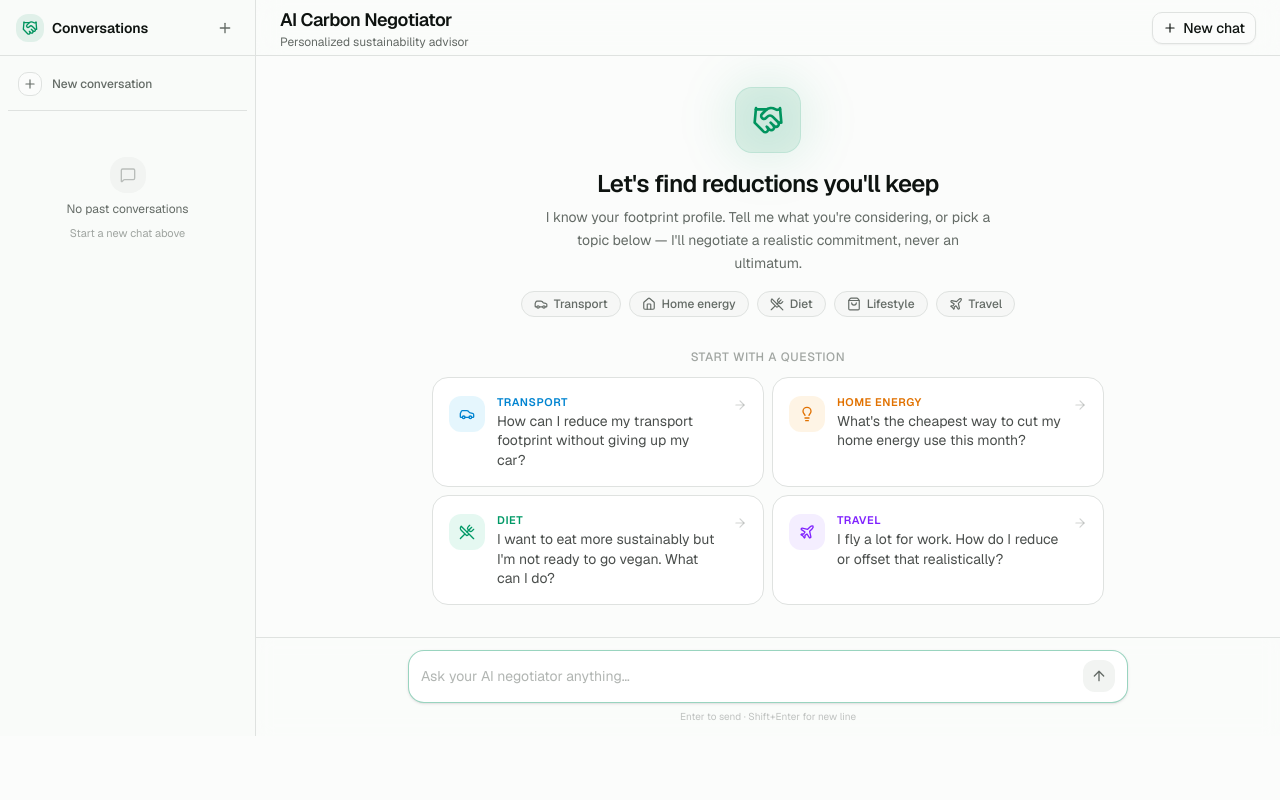
Test: NegotiatorClient › shows error banner when error occurs
This screenshot has width=1280, height=800.
Type "Trigger an error" into the text box named "message input" at [748, 677], box [421,659,1075,694]
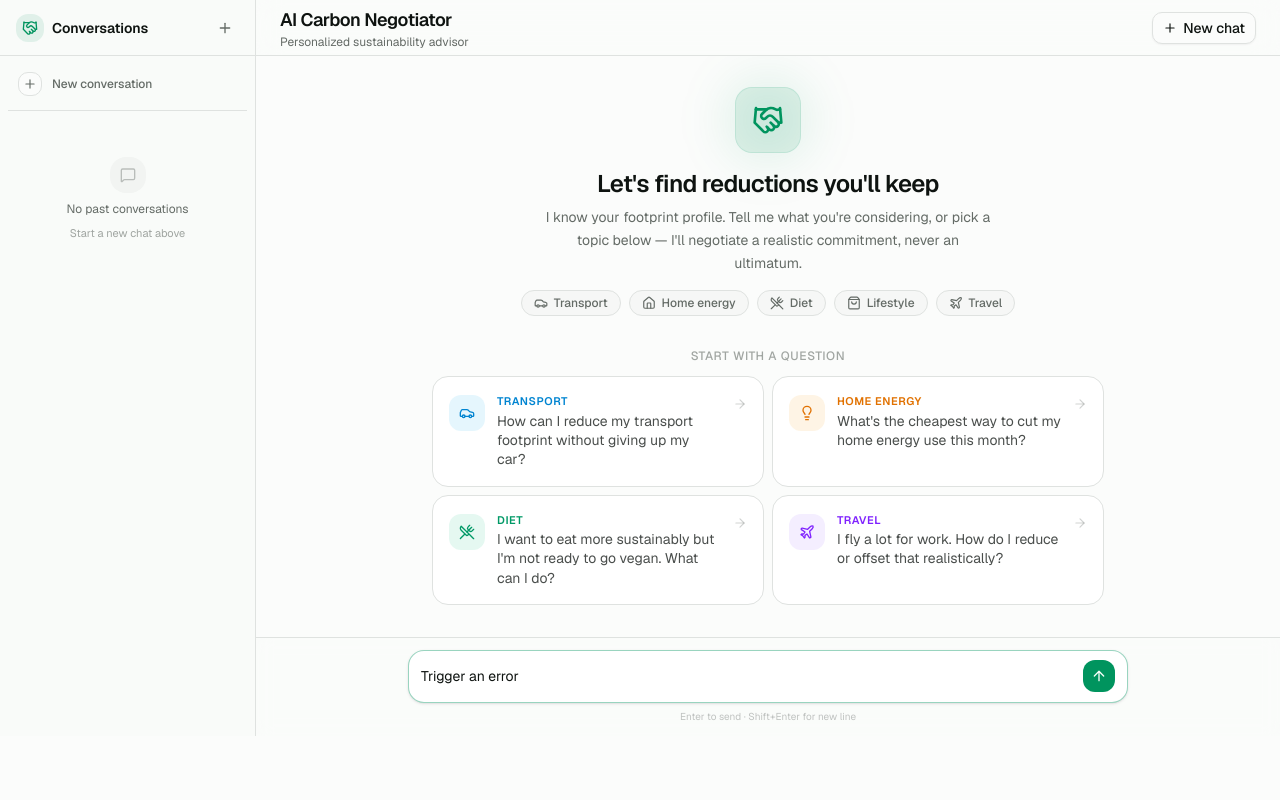
Click the button named "send message" at [1099, 676], box [1083,660,1115,692]
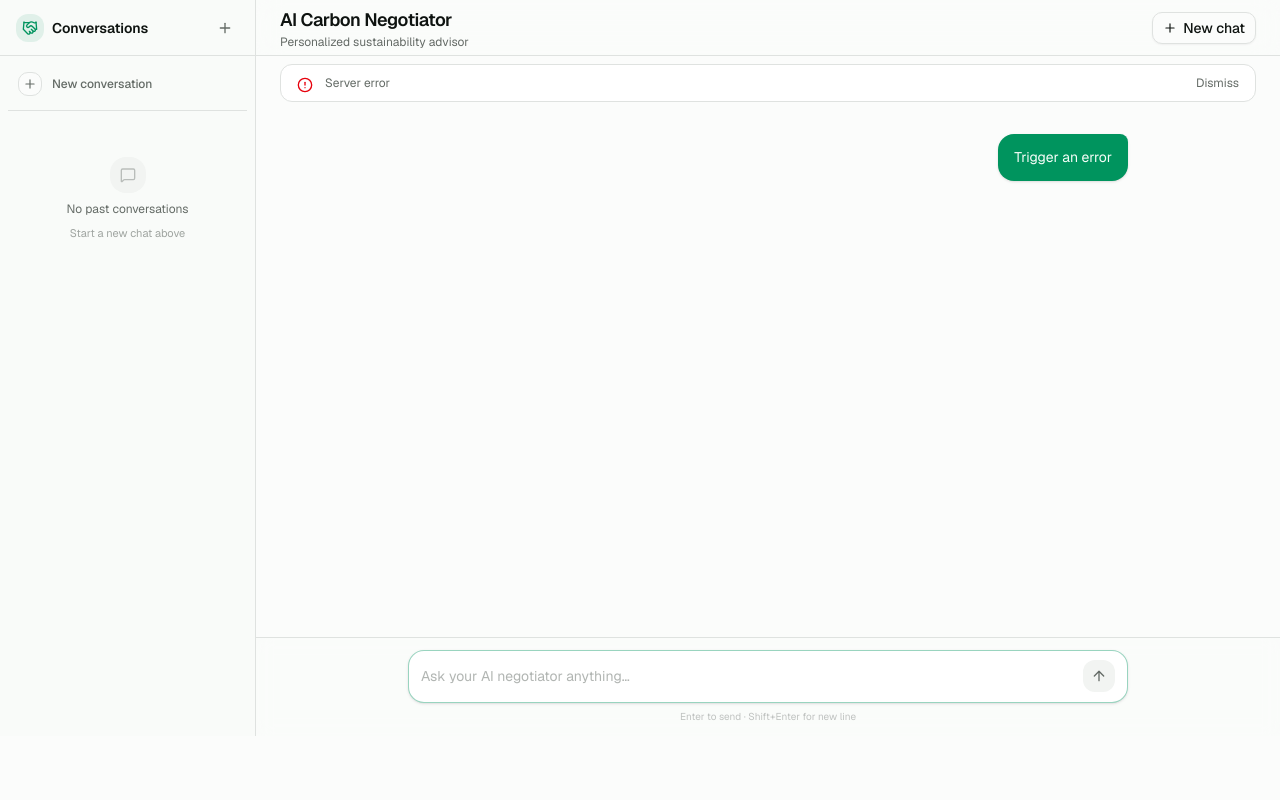
Result: the text "Server error" is shown at [325,75,390,91]
